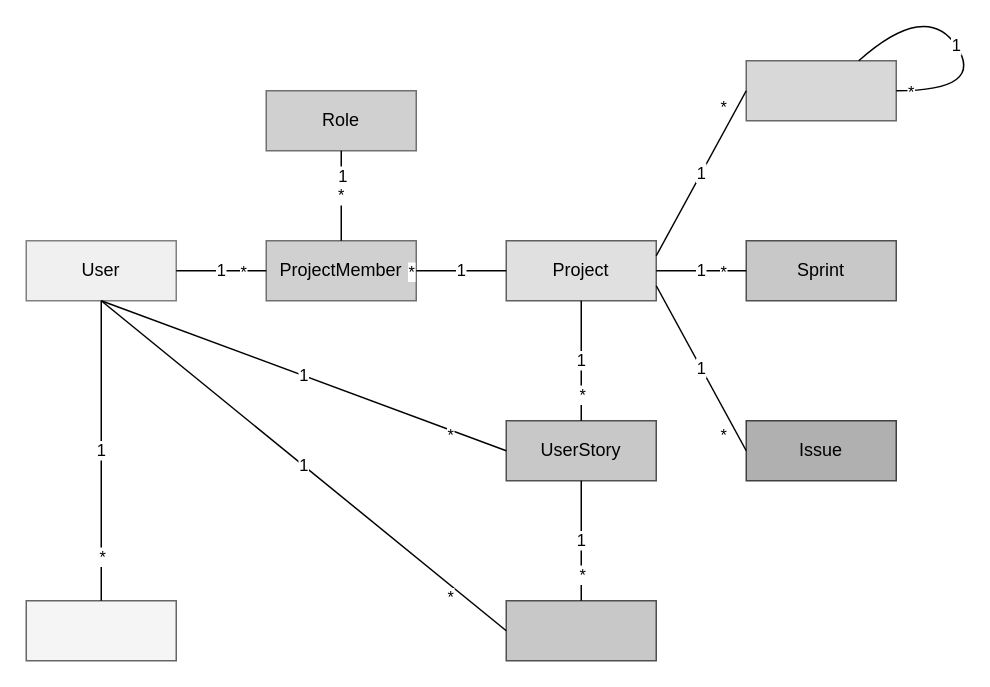
This 990x687 diagram has some shape labels left out. Here are the shapes that lost their labels. From the top down, the centre of each, then its label:
point (820, 90): WikiPage
point (100, 630): Notification
point (580, 630): Task
